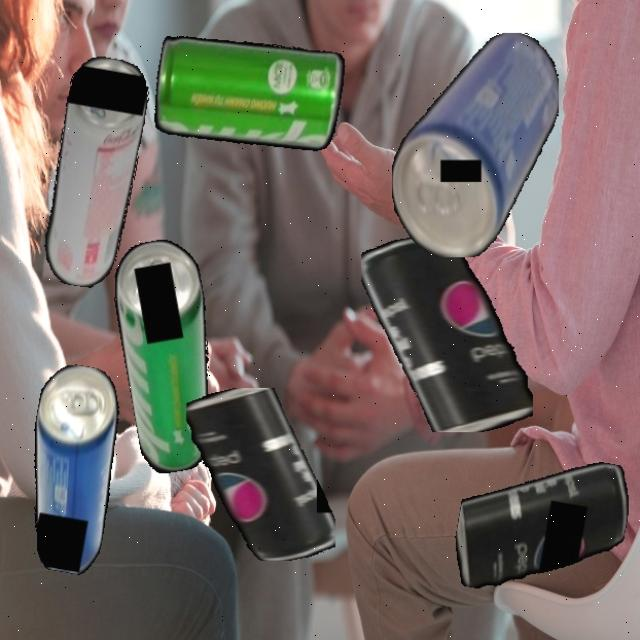debris: (391, 32, 559, 257), (361, 236, 533, 432), (447, 440, 636, 612), (106, 234, 233, 476), (36, 53, 154, 292), (148, 24, 348, 162), (11, 360, 131, 577), (186, 388, 336, 561)
